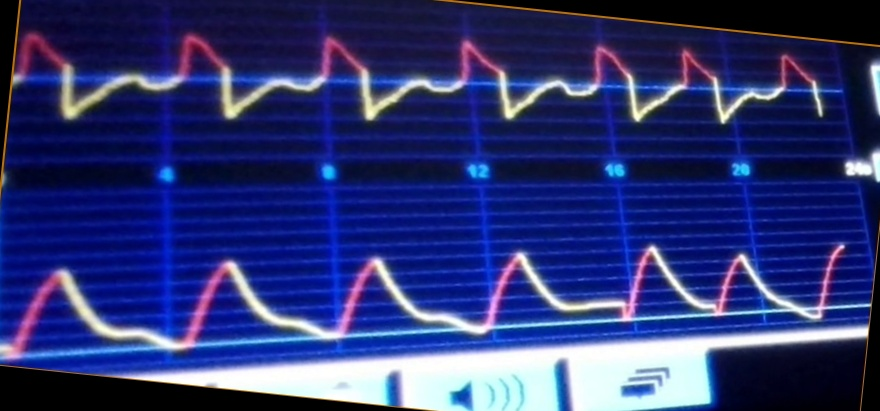Ineffective_effort Flow: (17, 27, 824, 133)
Ineffective_effort Volume: (2, 236, 846, 352)
